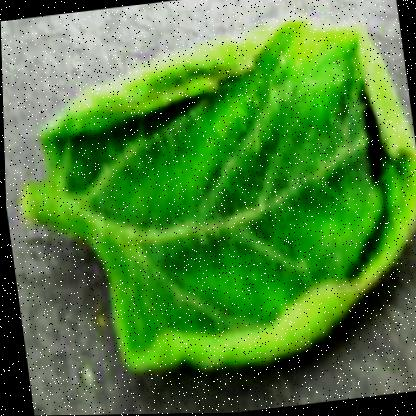Virus: (0, 1, 415, 404)
